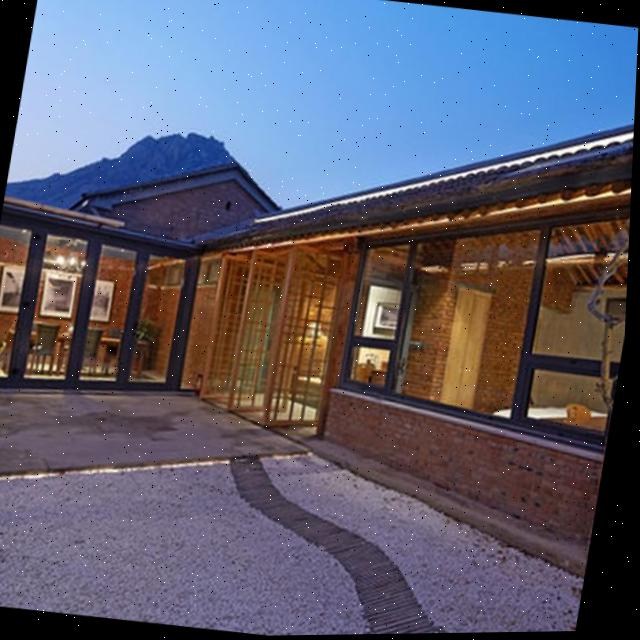building: (0, 39, 638, 552)
